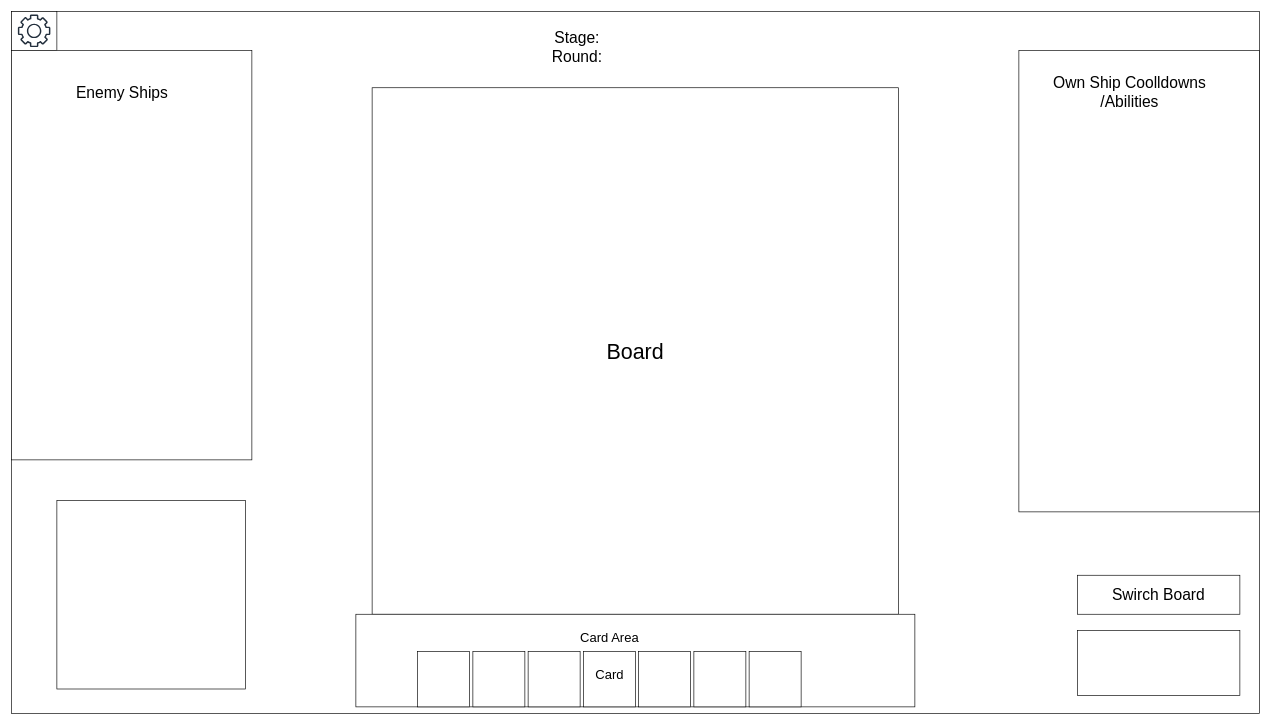
This 1271x725 diagram has some shape labels left out. The centre of each missing label's shape, as x and y in pixels:
"Combine Field" goes at (150,594).
"Ready / Next Round" goes at (1158,663).
